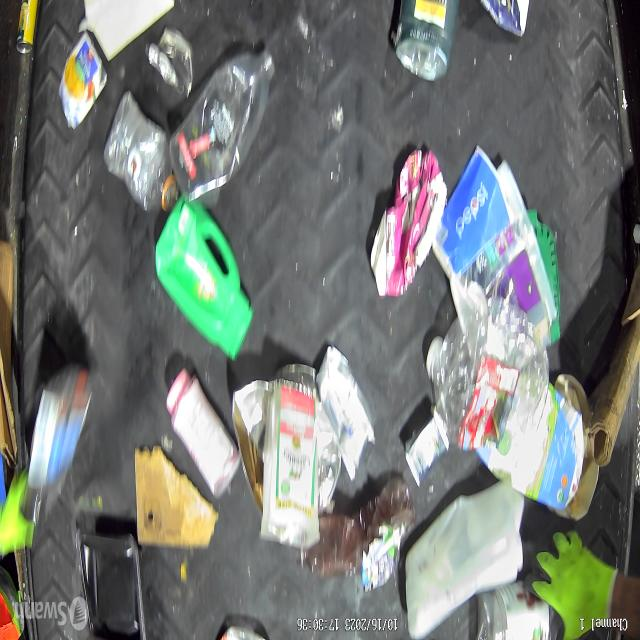can: (390, 0, 458, 93), (56, 34, 106, 130)
milk_jug: (405, 485, 520, 635)
non_white_jug: (157, 204, 251, 358)
plastic_bottle: (425, 296, 550, 448), (168, 37, 276, 200), (105, 89, 178, 207)
